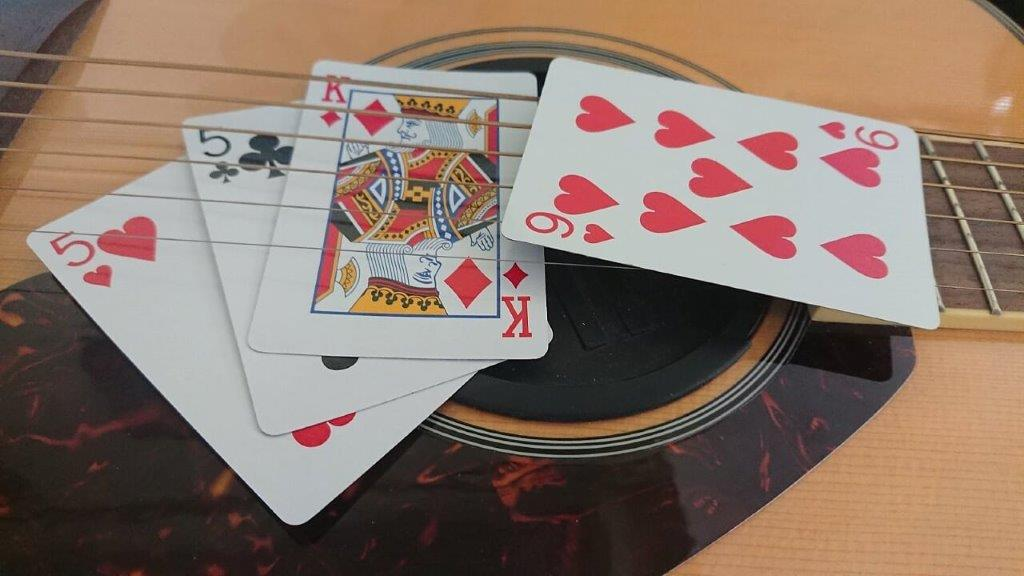5C: (195, 122, 241, 185)
5H: (45, 227, 117, 292)
KD: (317, 71, 354, 131)
